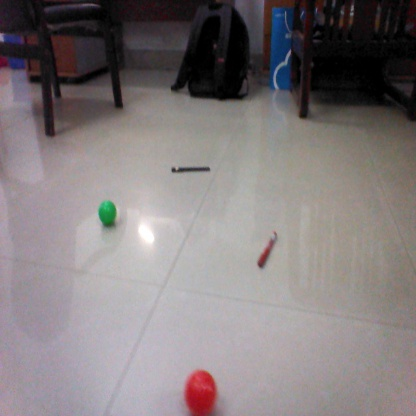ball: (183, 368, 217, 413), (95, 198, 118, 225)
pen: (258, 231, 277, 269), (170, 164, 214, 173)
